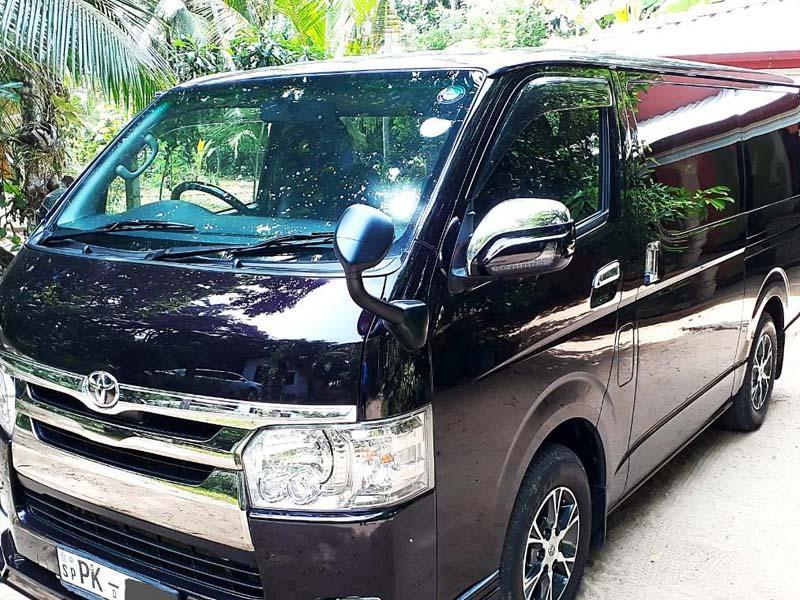car: (13, 52, 797, 600)
